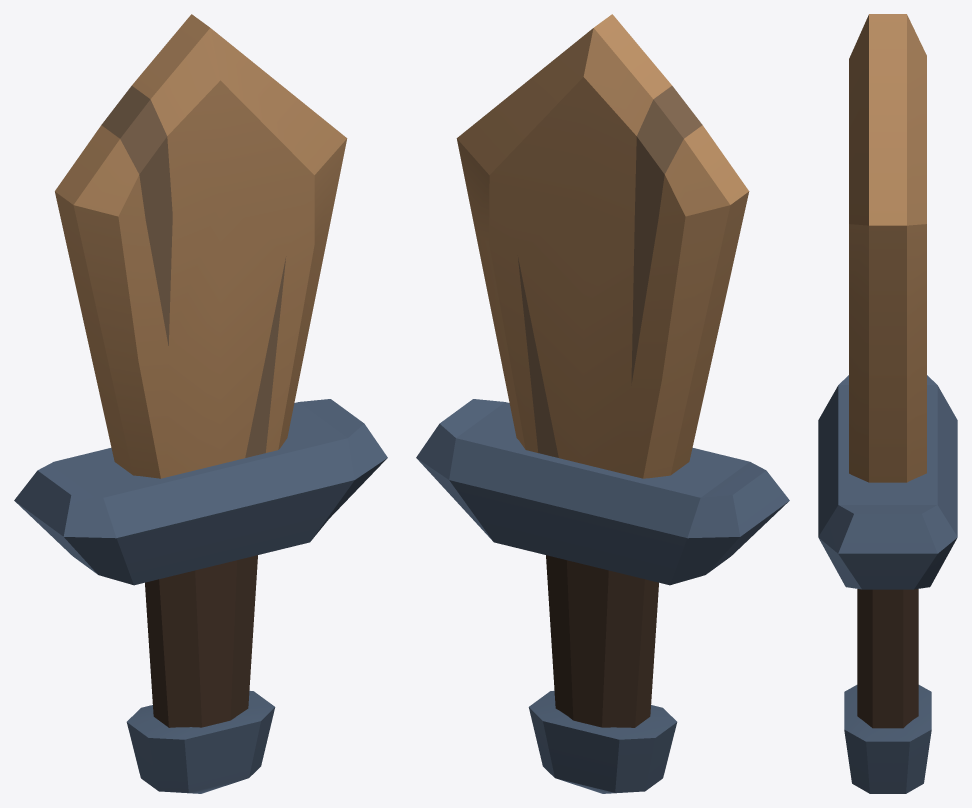
The model's file is Sword_LHand_7.fbx.
3 views of the same model, side by side, from view 1: azimuth 30°, elevation 25°; view 2: azimuth 150°, elevation 25°; view 3: azimuth 270°, elevation 25° (orthographic).
Parts seen in each view (by area): view 1: Sword_LHand_7; view 2: Sword_LHand_7; view 3: Sword_LHand_7.
Part boxes in pixels (x1,y1,x2,y2): Sword_LHand_7: [14, 14, 387, 793]; Sword_LHand_7: [416, 14, 789, 793]; Sword_LHand_7: [818, 14, 957, 793].
Bounding box in the file's own units: 29.09 × 66.27 × 10.79.
